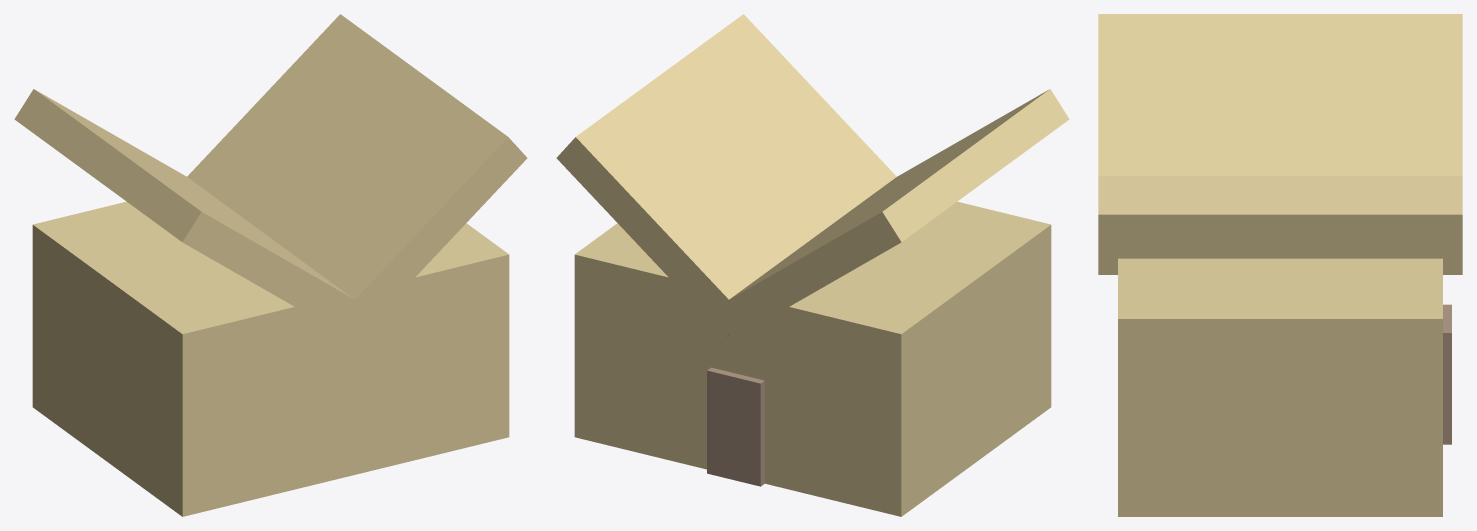
3 renders of one model, left to right at view 1: azimuth 30°, elevation 25°; view 2: azimuth 150°, elevation 25°; view 3: azimuth 270°, elevation 25°, orthographic. The views are drawn at different scales.
Parts seen in each view (by area): view 1: straw-walls, roof-right, roof-left; view 2: straw-walls, roof-right, roof-left, door; view 3: straw-walls, roof-left, roof-right, door.
Part boxes in pixels (bbox=[...]): straw-walls: bbox=[32, 201, 509, 516]; roof-right: bbox=[187, 14, 527, 337]; roof-left: bbox=[14, 89, 370, 339]; straw-walls: bbox=[574, 201, 1051, 516]; roof-right: bbox=[556, 14, 896, 337]; roof-left: bbox=[713, 89, 1069, 339]; door: bbox=[707, 367, 764, 486]; straw-walls: bbox=[1118, 258, 1442, 516]; roof-left: bbox=[1098, 14, 1462, 176]; roof-right: bbox=[1098, 176, 1462, 274]; door: bbox=[1443, 304, 1451, 444].
Bounding box in the file's own units: 7.71 × 6.6 × 6.5.
